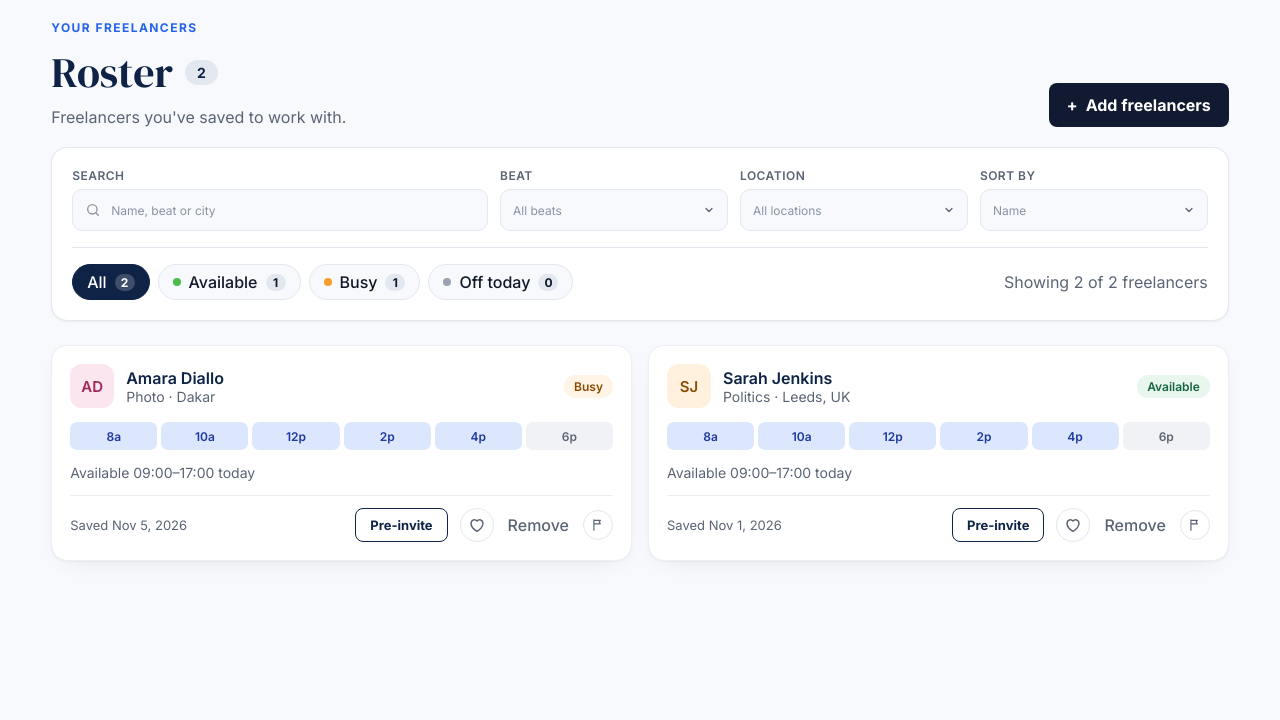
Test case: RosterBrowser › can optionally notify the freelancer, and shows the notification state
Click the button "+ Add freelancers" at (1139, 105), box [1049, 83, 1229, 127]
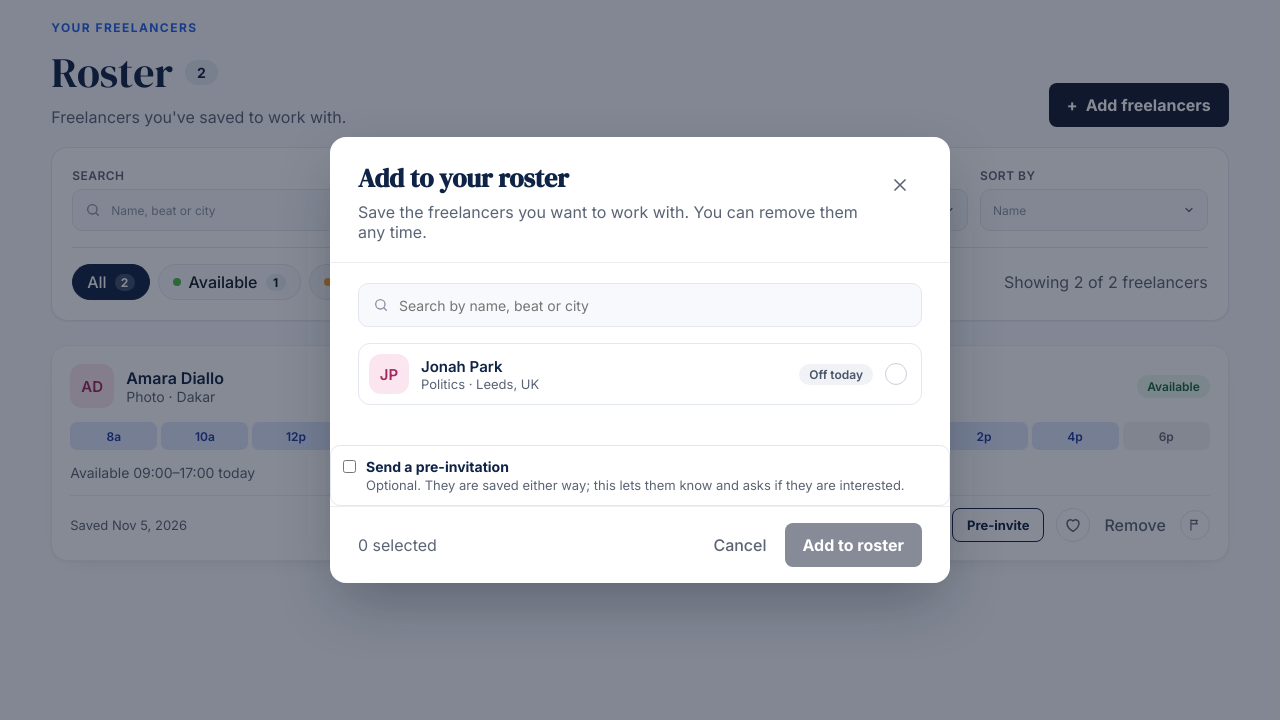
Click the checkbox labelled "JP Jonah Park Politics · Leeds, UK Off today" at (389, 374), box [358, 343, 922, 405]
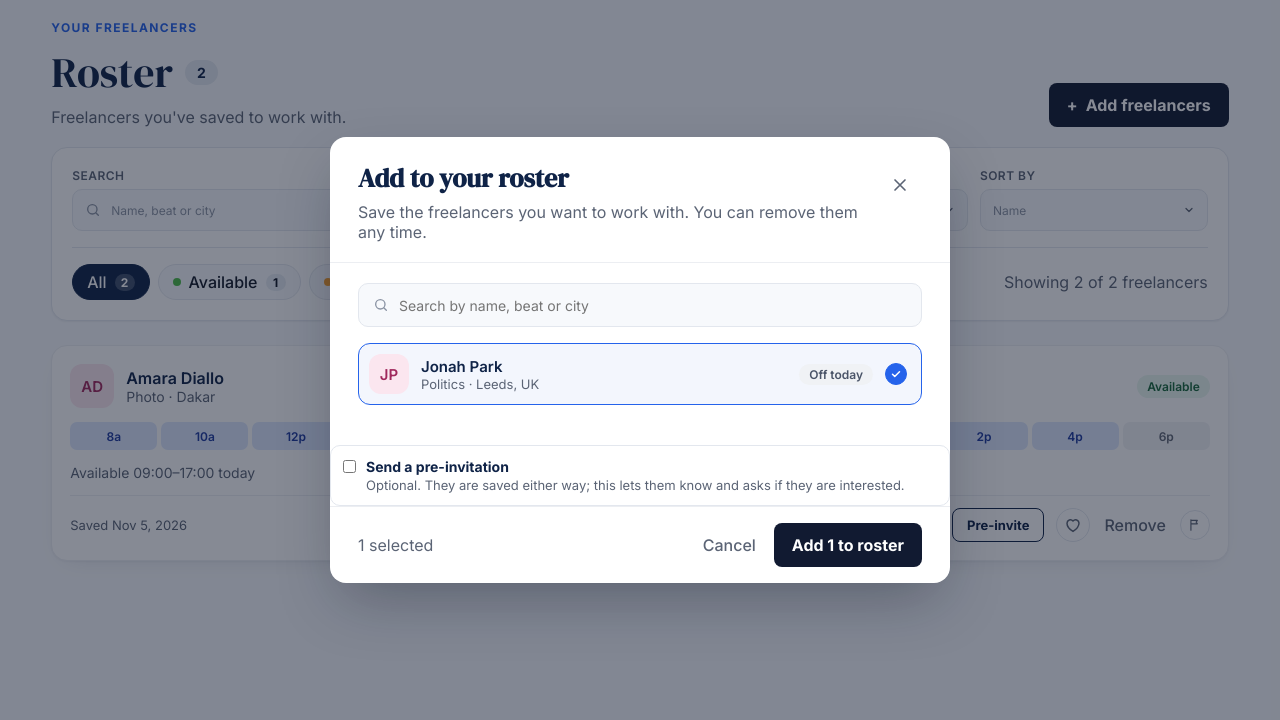
Click the checkbox labelled "Send a pre-invitation" at (350, 467), box [343, 460, 356, 473]
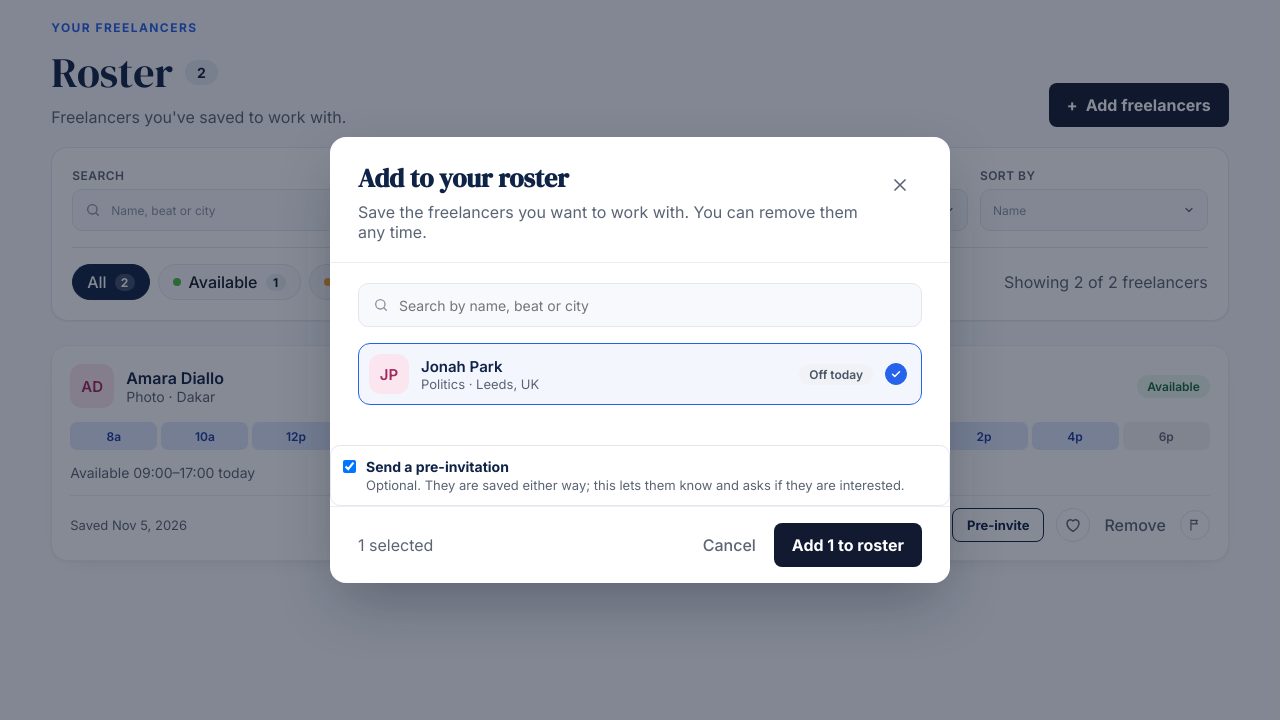
Click the button "Add 1 to roster" at (848, 545), box [774, 523, 922, 567]
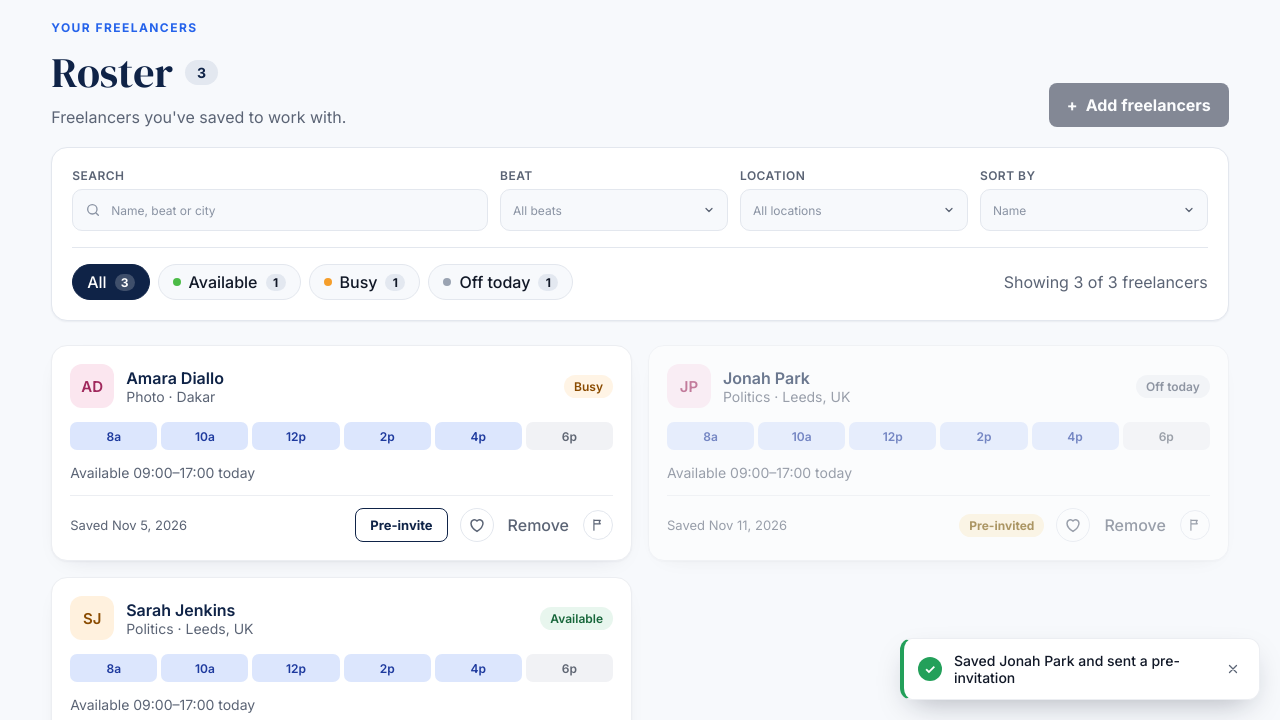
expect the text "Saved Jonah Park and sent a pre-invitation" is shown: met, box [954, 652, 1203, 686]
expect the text "Pre-invited" is shown: met, box [959, 514, 1044, 536]
